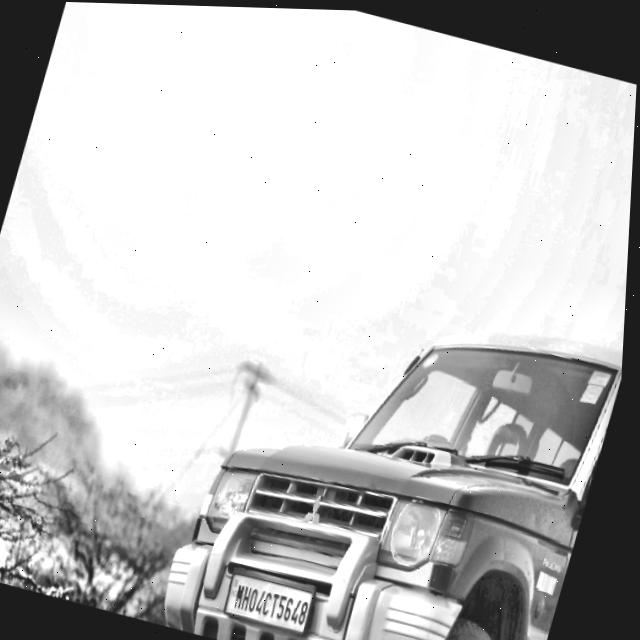light_vehicle: (159, 253, 630, 640)
